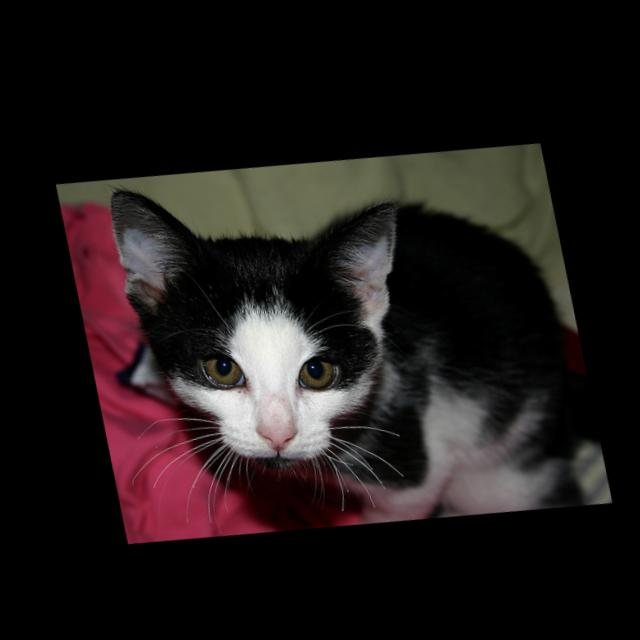animals: (111, 146, 436, 468)
